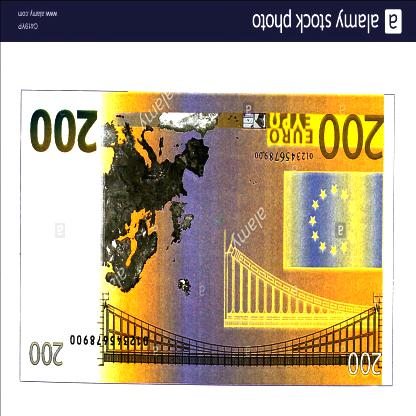euro_banknote: (20, 92, 396, 385)
